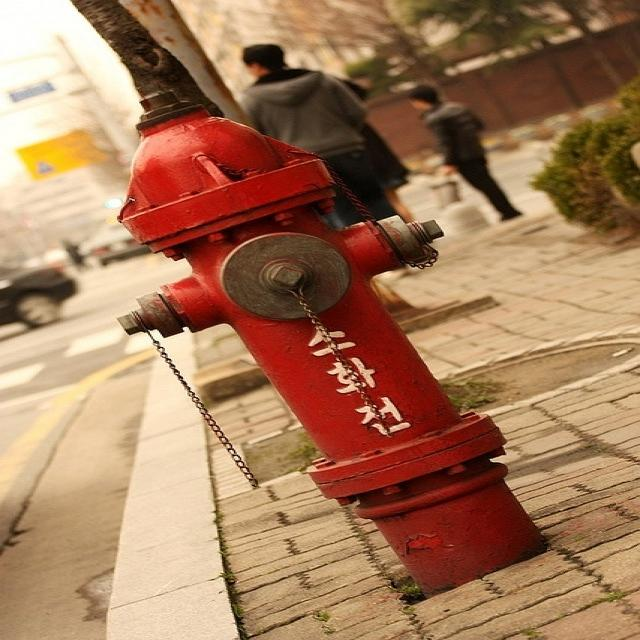fire_hydrant: (100, 97, 586, 627)
